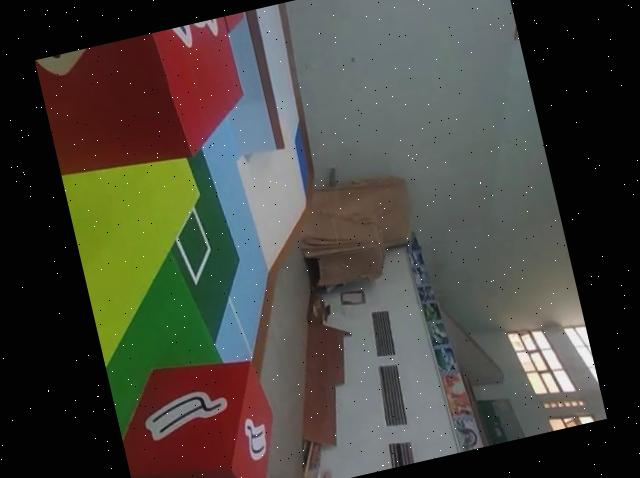R2 Real: (34, 15, 260, 187), (106, 340, 293, 478)
